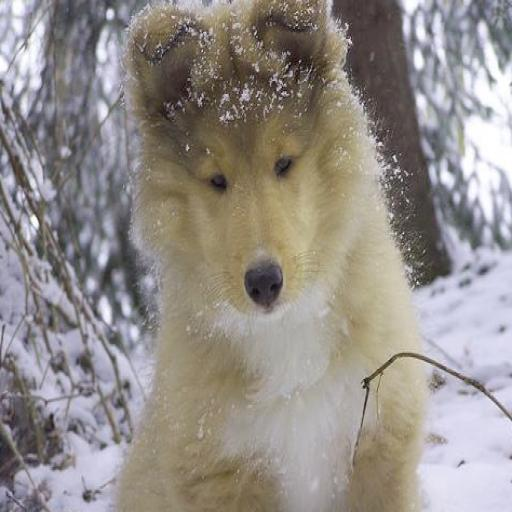dog_face: (124, 0, 345, 323)
